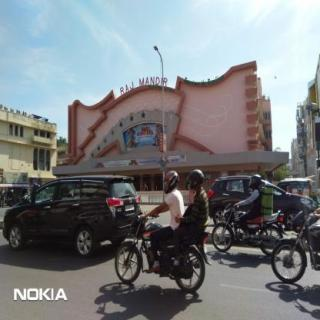Normal_vehicle: (3, 175, 140, 257)
